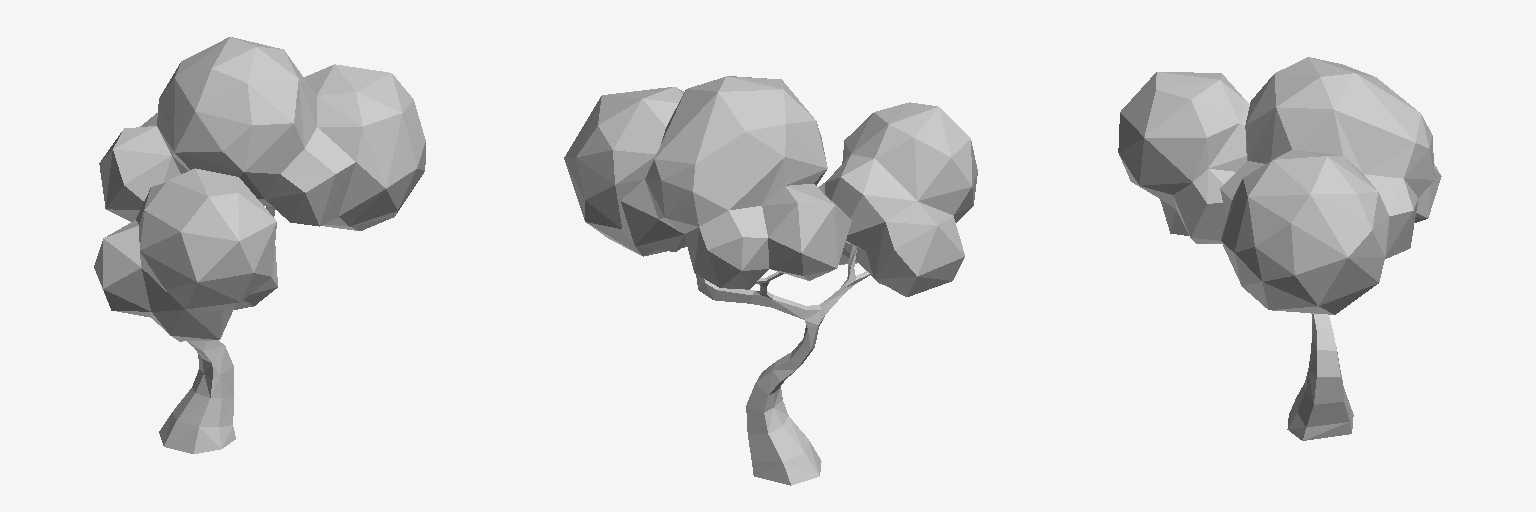
The model's file is tree1.obj.
3 views of the same model, side by side, from view 1: azimuth 30°, elevation 25°; view 2: azimuth 150°, elevation 25°; view 3: azimuth 270°, elevation 25° (orthographic).
Parts seen in each view (by area): view 1: LowPoly_Tree_07_lowpoly_tree_04_Plane.012; view 2: LowPoly_Tree_07_lowpoly_tree_04_Plane.012; view 3: LowPoly_Tree_07_lowpoly_tree_04_Plane.012.
Boxes of the visible parts, x1,y1,x2,y2 form: LowPoly_Tree_07_lowpoly_tree_04_Plane.012: [94, 37, 425, 453]; LowPoly_Tree_07_lowpoly_tree_04_Plane.012: [564, 76, 977, 485]; LowPoly_Tree_07_lowpoly_tree_04_Plane.012: [1118, 57, 1441, 440].
Bounding box in the file's own units: 4.16 × 4.3 × 3.33.